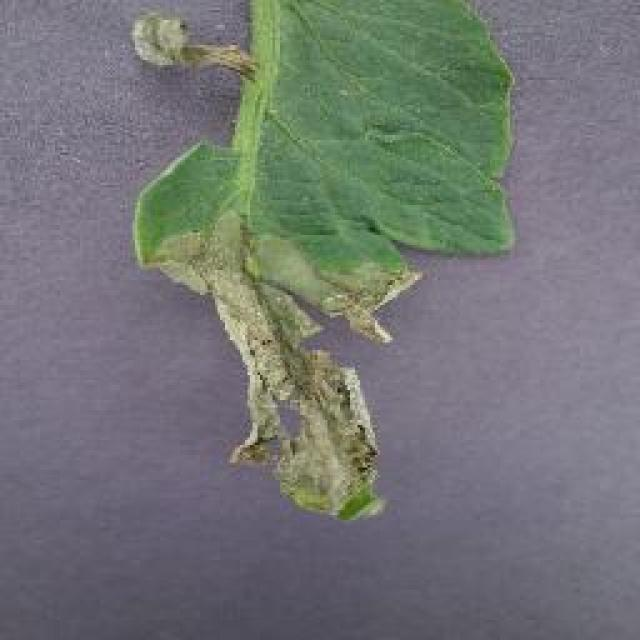Tomato Late Blight: (147, 186, 498, 522)
